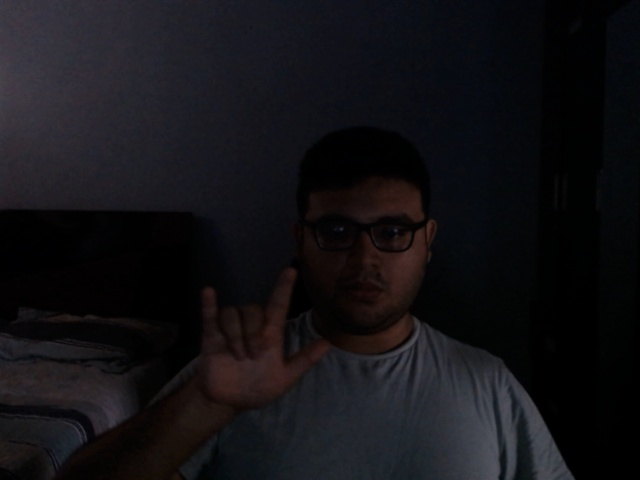I love you: (184, 262, 332, 412)
